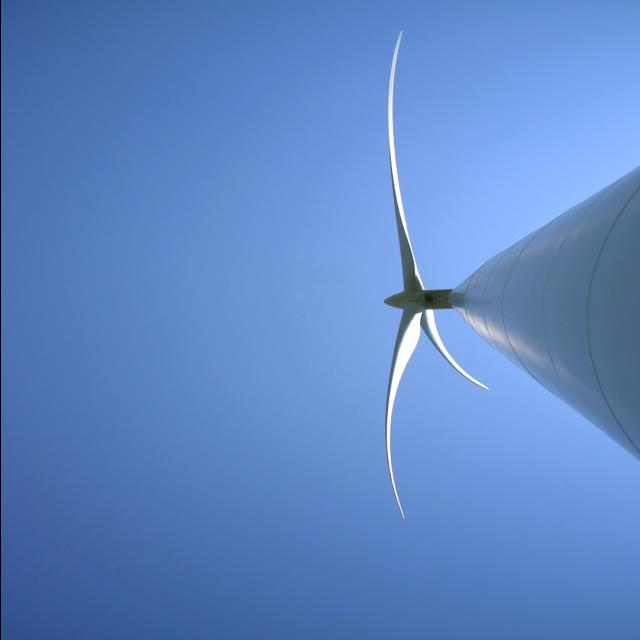blade 1: (428, 324, 492, 392)
blade 2: (364, 13, 424, 285)
blade 3: (361, 334, 422, 602)
